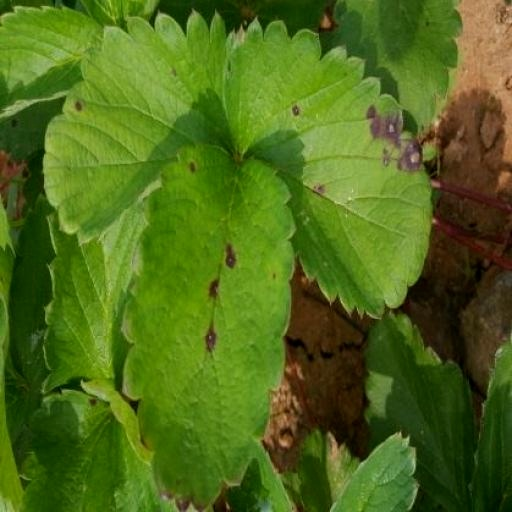Leaf Spot: (120, 0, 297, 373), (224, 191, 433, 495), (42, 265, 236, 504), (17, 0, 182, 134)
